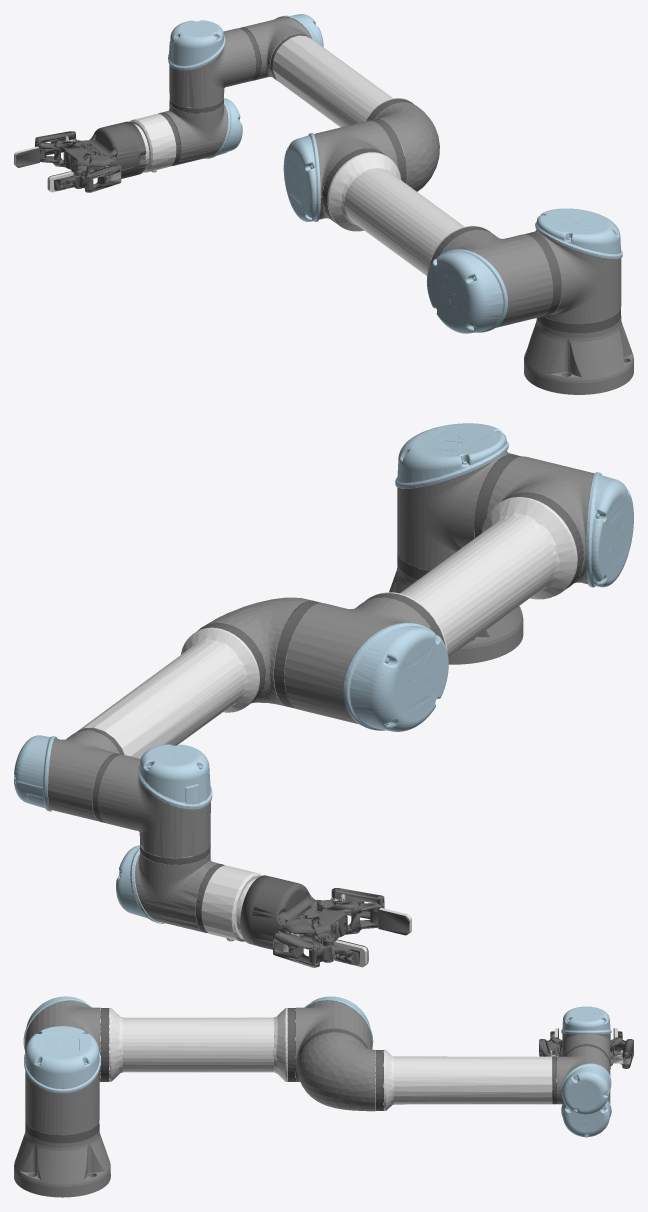
3 renders of one model, top to bottom at view 1: azimuth 30°, elevation 25°; view 2: azimuth 150°, elevation 25°; view 3: azimuth 270°, elevation 25°, orthographic. The views are drawn at different scales.
Parts seen in each view (by area): view 1: upper_arm_link, forearm_link, shoulder_link, base_link, wrist_1_link, wrist_2_link, base, wrist_3_link, left_spring_link, right_coupler; view 2: upper_arm_link, forearm_link, shoulder_link, wrist_1_link, wrist_2_link, base, base_link, wrist_3_link, right_spring_link, left_coupler, base_mount, left_follower; view 3: forearm_link, upper_arm_link, shoulder_link, base_link, wrist_1_link, wrist_2_link.
Part boxes in pixels (x1,y1,x2,y2): upper_arm_link: [283, 119, 553, 333]; forearm_link: [239, 14, 439, 191]; shoulder_link: [525, 208, 622, 323]; base_link: [524, 308, 633, 394]; wrist_1_link: [168, 20, 256, 113]; wrist_2_link: [158, 98, 242, 166]; base: [63, 123, 137, 178]; wrist_3_link: [130, 113, 176, 172]; left_spring_link: [37, 140, 87, 167]; right_coupler: [85, 164, 121, 192]; upper_arm_link: [274, 456, 633, 731]; forearm_link: [14, 597, 312, 822]; shoulder_link: [395, 423, 537, 570]; wrist_1_link: [98, 744, 212, 864]; wrist_2_link: [116, 845, 224, 933]; base: [251, 878, 347, 949]; base_link: [389, 552, 523, 664]; wrist_3_link: [201, 865, 261, 941]; right_spring_link: [317, 900, 381, 934]; left_coupler: [273, 931, 319, 967]; base_mount: [240, 875, 275, 946]; left_follower: [309, 943, 359, 964]; forearm_link: [297, 1032, 611, 1114]; upper_arm_link: [23, 996, 373, 1081]; shoulder_link: [24, 1026, 100, 1134]; base_link: [14, 1121, 110, 1197]; wrist_1_link: [561, 1006, 611, 1065]; wrist_2_link: [561, 1091, 611, 1137].
Size of the model in its own units: 46.97 by 23.45 by 96.67.
